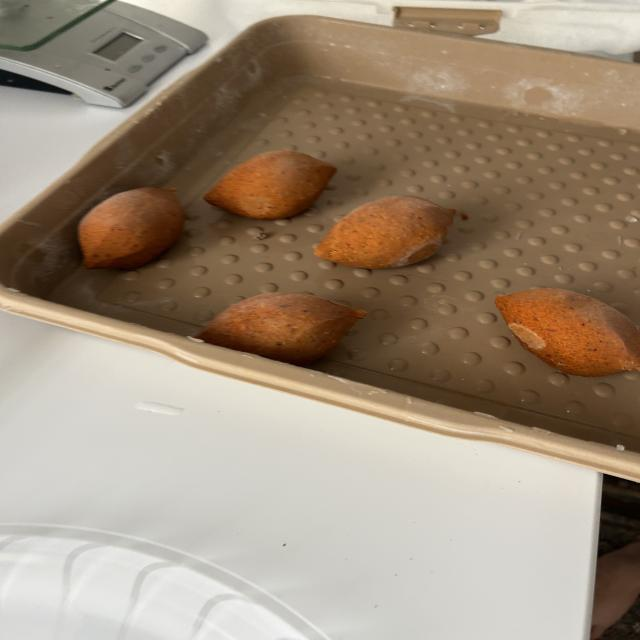kobi: (494, 286, 639, 378), (192, 290, 364, 364), (313, 195, 457, 270), (204, 149, 338, 220), (76, 186, 184, 270)
